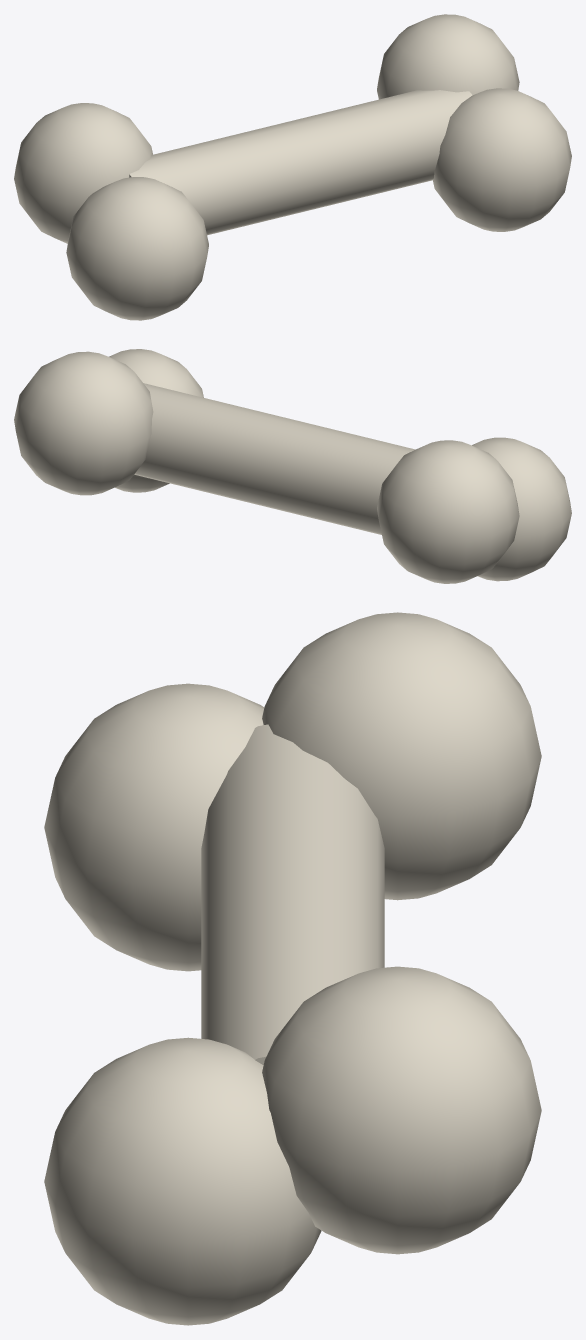
The model's file is bone.glb.
3 views of the same model, one above another, from view 1: azimuth 30°, elevation 25°; view 2: azimuth 150°, elevation 25°; view 3: azimuth 270°, elevation 25° (orthographic). The views are drawn at different scales.
Parts seen in each view (by area): view 1: shaft, knob-1-1, knob1-1, knob-11, knob11; view 2: shaft, knob-11, knob11, knob-1-1, knob1-1; view 3: knob11, knob1-1, knob-11, shaft, knob-1-1.
Part boxes in pixels (x1,y1,x2,y2): shaft: (129, 90, 472, 235); knob-1-1: (66, 177, 208, 320); knob1-1: (432, 88, 571, 231); knob-11: (14, 103, 152, 243); knob11: (377, 14, 519, 99); shaft: (134, 383, 415, 534); knob-11: (377, 440, 519, 583); knob11: (14, 351, 153, 495); knob-1-1: (472, 437, 571, 581); knob1-1: (109, 349, 203, 492); knob11: (262, 966, 541, 1254); knob1-1: (44, 1037, 321, 1325); knob-11: (262, 612, 541, 900); shaft: (201, 724, 384, 1064); knob-1-1: (44, 683, 264, 971).
Size of the model in its own units: 0.86 by 0.28 by 0.38.
